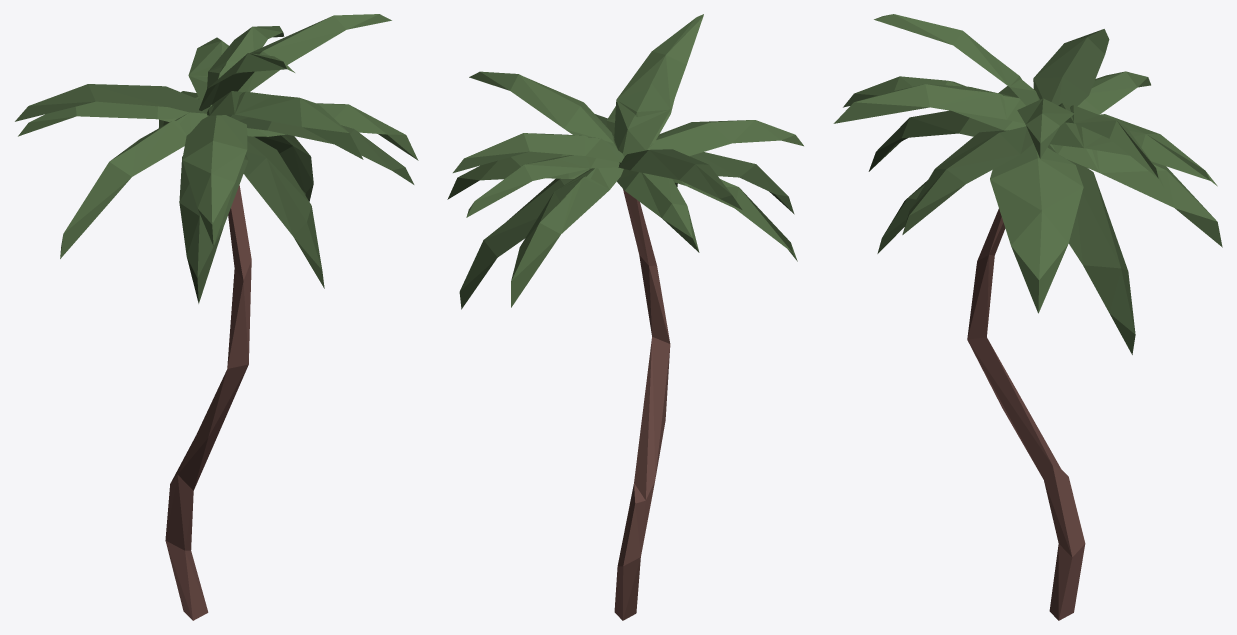
The model's file is PalmTree_1.lod2.glb.
3 renders of one model, left to right at view 1: azimuth 30°, elevation 25°; view 2: azimuth 150°, elevation 25°; view 3: azimuth 270°, elevation 25°, orthographic. The views are drawn at different scales.
Visible parts, largest first — view 1: PalmTree_1; view 2: PalmTree_1; view 3: PalmTree_1.
Part boxes in pixels (x1,y1,x2,y2): PalmTree_1: (15,14,418,620); PalmTree_1: (447,14,803,620); PalmTree_1: (833,14,1222,620).
Size of the model in its own units: 2.88 by 4.48 by 2.62.
